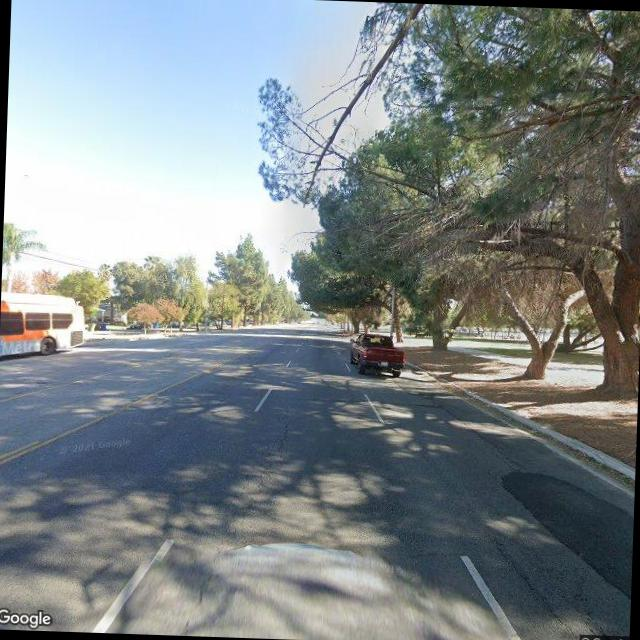pothole: (218, 414, 292, 540), (488, 537, 580, 636)
